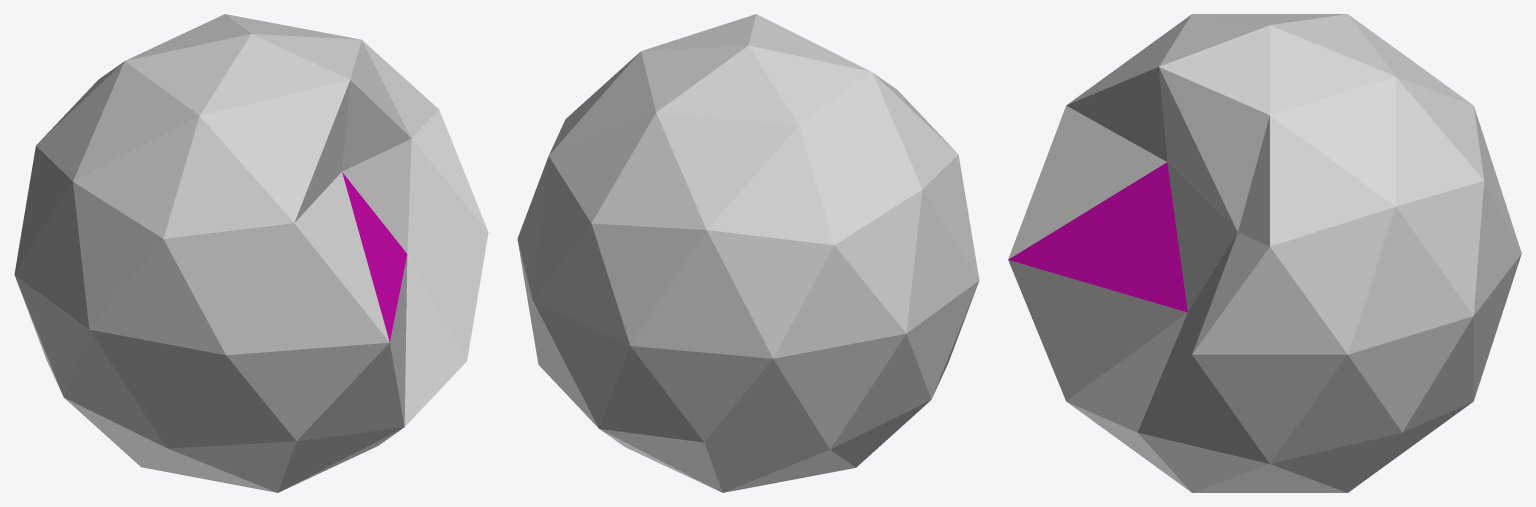
The model's file is Planet1.fbx.
3 renders of one model, left to right at view 1: azimuth 30°, elevation 25°; view 2: azimuth 150°, elevation 25°; view 3: azimuth 270°, elevation 25°, orthographic. The views are drawn at different scales.
Visible parts, largest first — view 1: Icosphere; view 2: Icosphere; view 3: Icosphere.
Boxes of the visible parts, bbox=[...] form: Icosphere: bbox=[14, 14, 488, 492]; Icosphere: bbox=[517, 14, 979, 492]; Icosphere: bbox=[1008, 14, 1521, 492].
Size of the model in its own units: 190 by 200 by 204.
